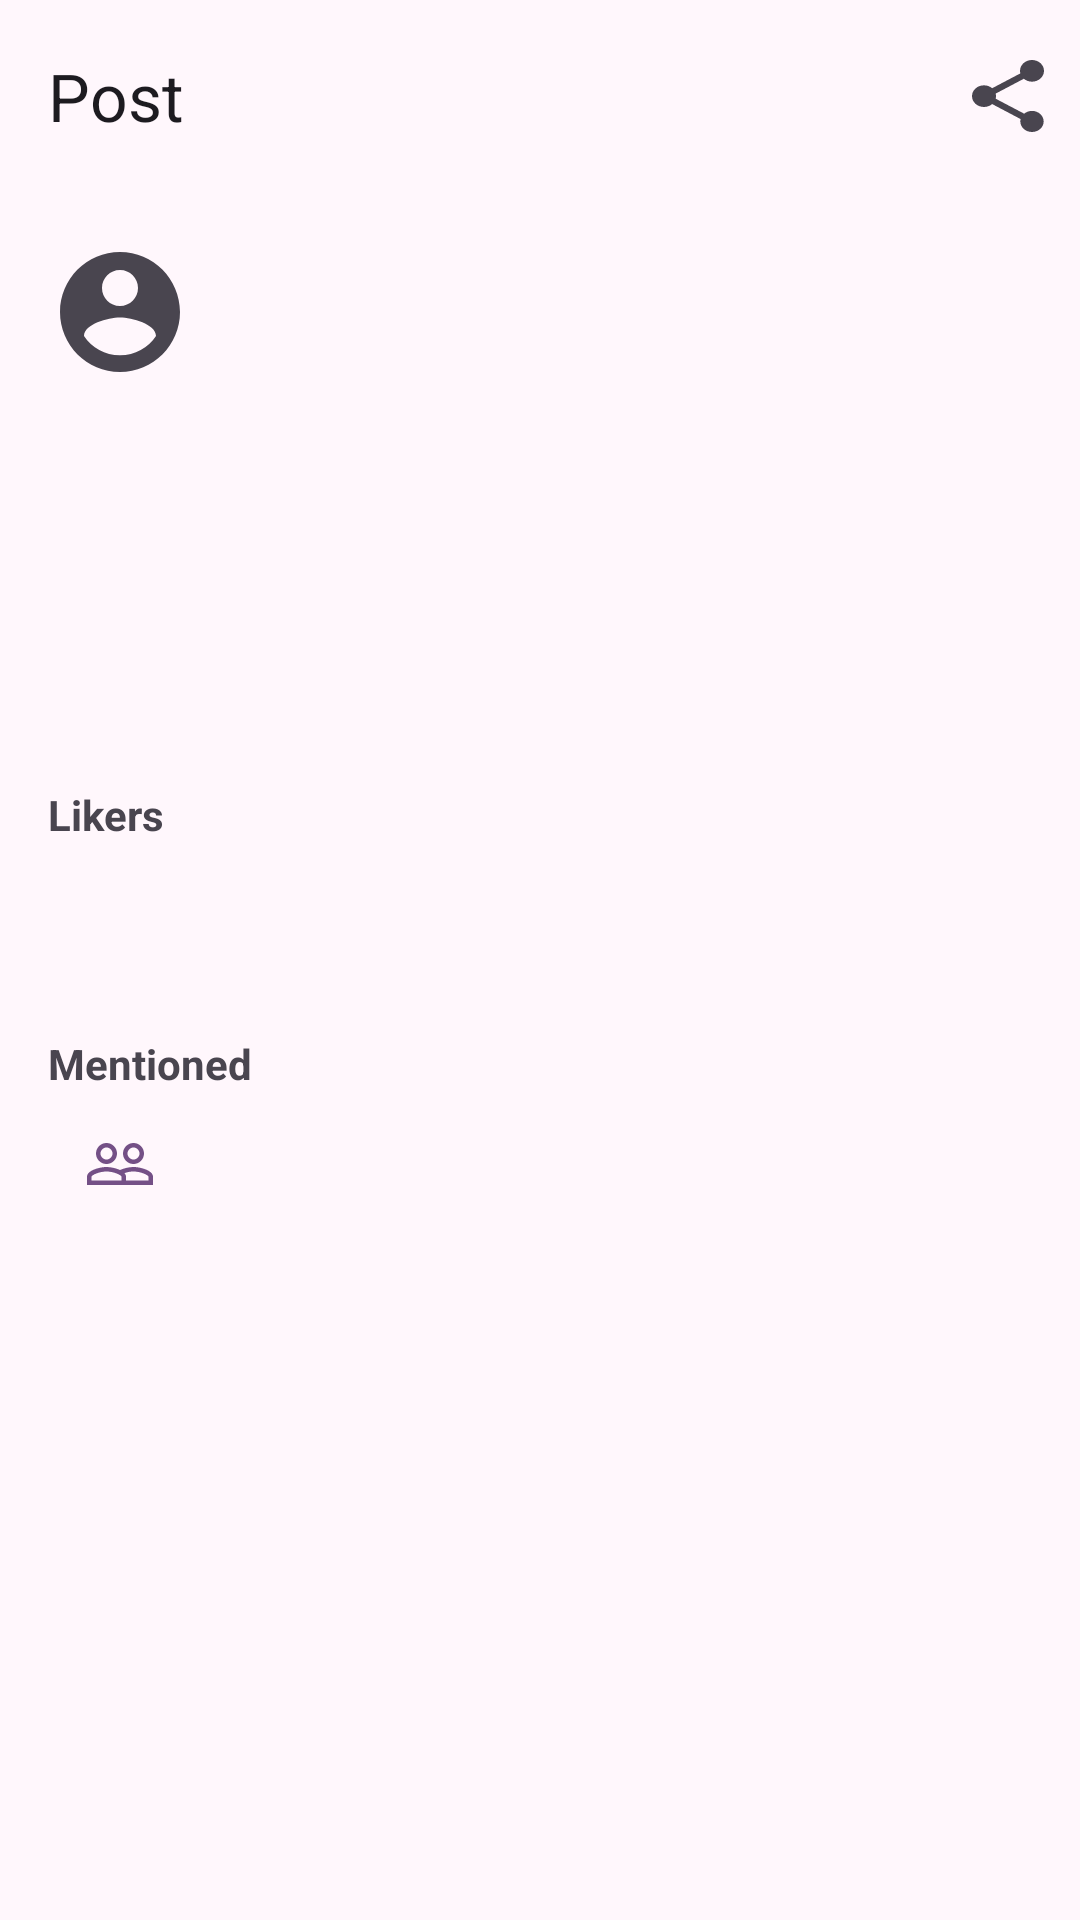

Locate icon controls on the screen. Image size 1080x1920, boxes as Rect(x1, y1, x2, y2).
The author's avatar: Rect(60, 252, 180, 372)
Users: Rect(87, 1143, 153, 1185)
